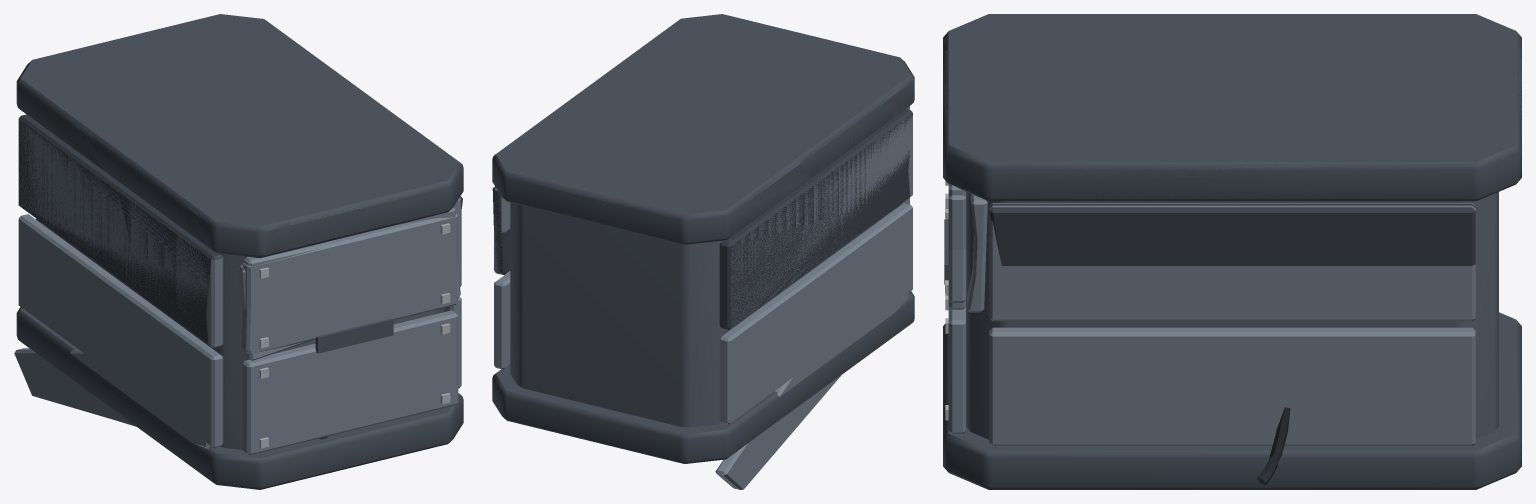
File: shr_cmp_generic_block_steel_a.glb
3 views of the same model, side by side, from view 1: azimuth 30°, elevation 25°; view 2: azimuth 150°, elevation 25°; view 3: azimuth 270°, elevation 25° (orthographic). The views are drawn at different scales.
Parts seen in each view (by area): view 1: mesh_intact, mesh_heavy, mesh_light; view 2: mesh_heavy, mesh_intact, mesh_light; view 3: mesh_heavy, mesh_intact, mesh_light.
Part boxes in pixels (left/top/right/bottom): mesh_intact: left=18, top=14, right=461, bottom=455; mesh_heavy: left=14, top=14, right=463, bottom=489; mesh_light: left=18, top=15, right=460, bottom=360; mesh_heavy: left=492, top=14, right=914, bottom=489; mesh_intact: left=494, top=14, right=913, bottom=424; mesh_light: left=499, top=14, right=913, bottom=243; mesh_heavy: left=943, top=14, right=1521, bottom=489; mesh_intact: left=943, top=14, right=1516, bottom=445; mesh_light: left=943, top=14, right=1521, bottom=302.
Size of the model in its own units: 0.5333 by 0.58 by 0.8.
